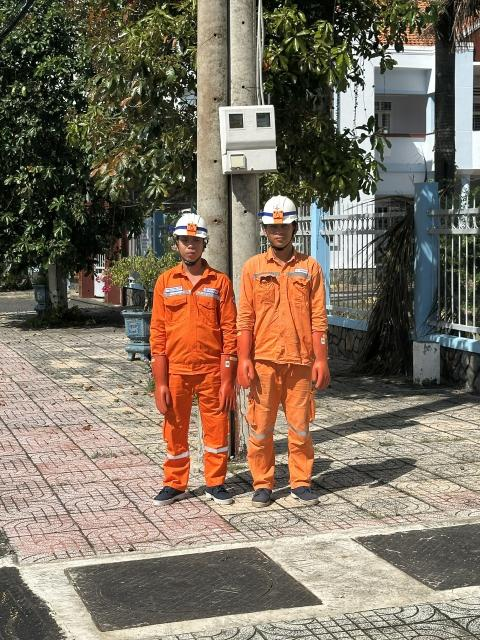gloves: (143, 349, 176, 420), (309, 324, 331, 391), (233, 333, 255, 392), (214, 352, 234, 414)
helmet: (255, 194, 302, 227), (171, 208, 214, 244)
shoes: (151, 477, 192, 511), (199, 482, 234, 506), (285, 482, 322, 504), (249, 483, 275, 508)
